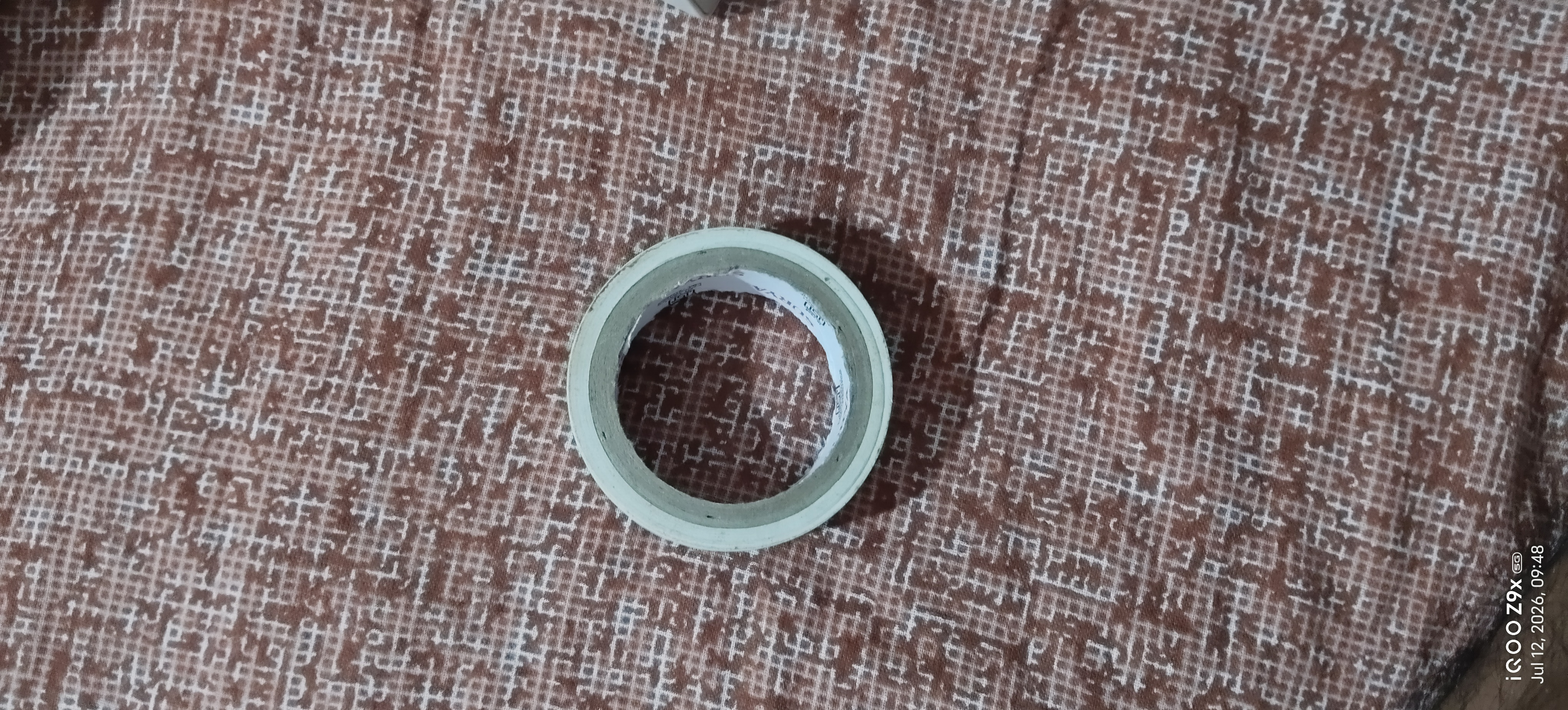tape_roll: (531, 201, 917, 575)
